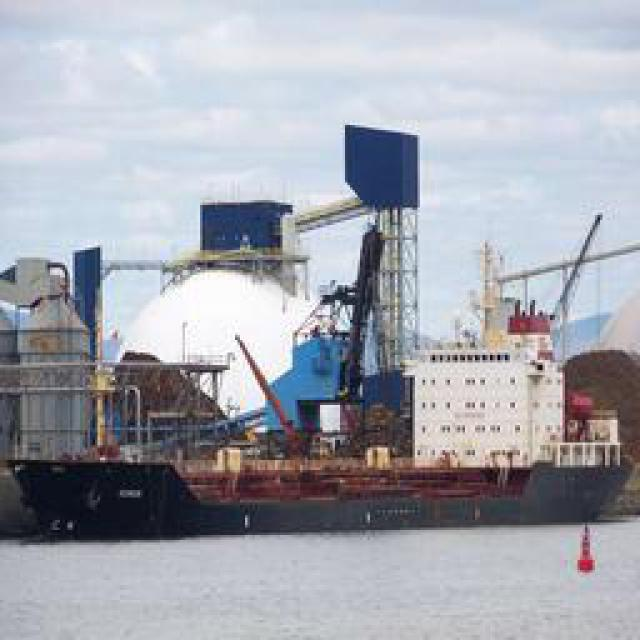Ship: (8, 181, 640, 542)
